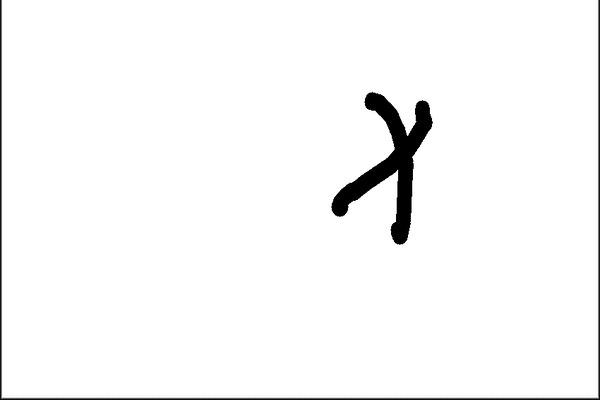X: (327, 77, 450, 268)
